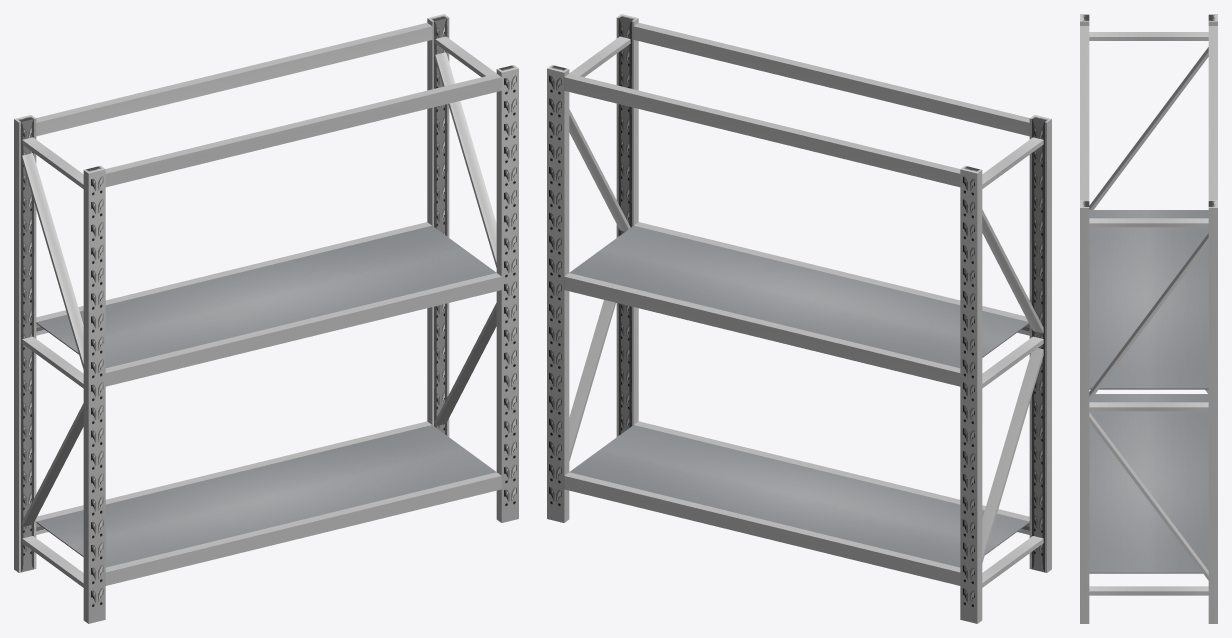
Rendered from BAISE_ER.obj.
3 views of the same model, side by side, from view 1: azimuth 30°, elevation 25°; view 2: azimuth 150°, elevation 25°; view 3: azimuth 270°, elevation 25° (orthographic). The views are drawn at different scales.
Parts seen in each view (by area): view 1: Mesh1; view 2: Mesh1; view 3: Mesh1.
Boxes of the visible parts, box(x1,y1,x2,y2) form: Mesh1: box(14, 14, 518, 623); Mesh1: box(547, 14, 1051, 623); Mesh1: box(1080, 14, 1217, 623).
Bounding box in the file's own units: 2000 × 2000 × 600.
1 material, 1 textured.
